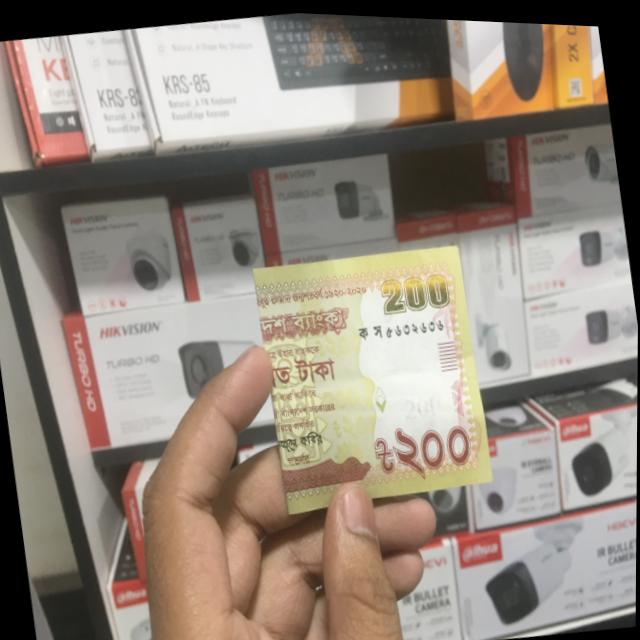Taka: (251, 234, 493, 511)
